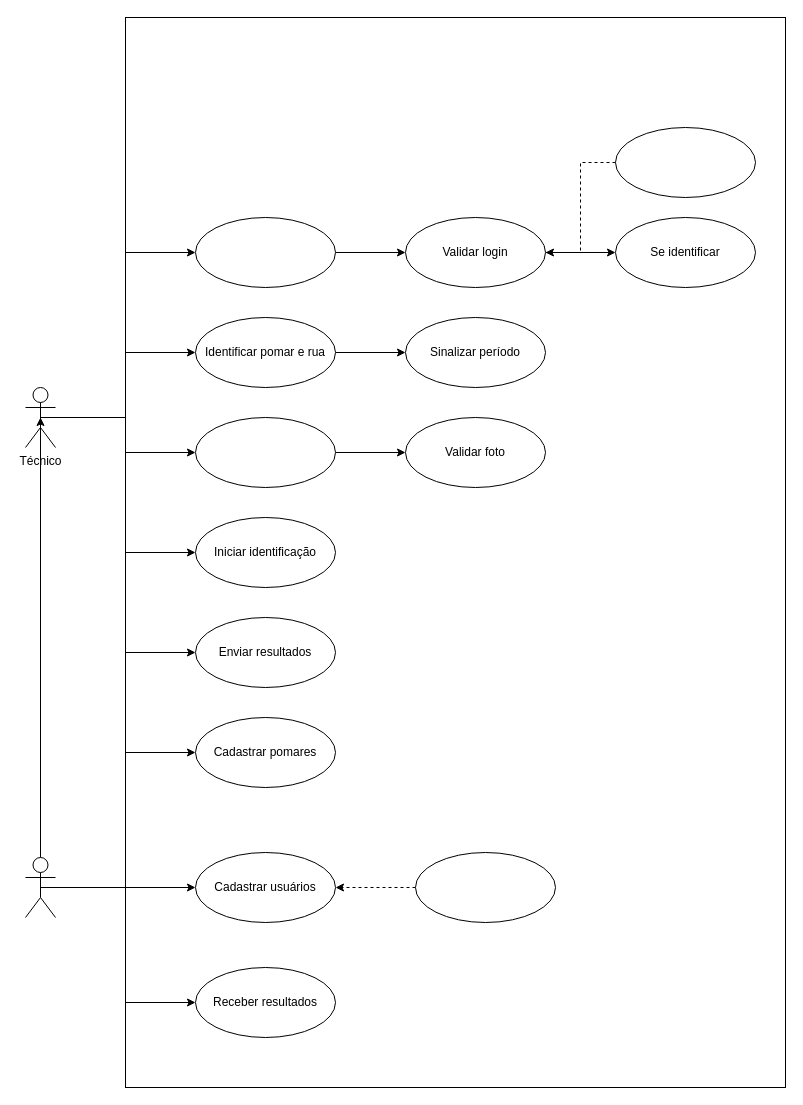
Image size: 803x1105. Some labels were removed from this diagram. Each missing label, with the centre of its shape:
"Erro de cadastro" belongs at [485,887].
"Erro de login" belongs at [685,162].
"Produtor" belongs at [40,887].
"Realizar login" belongs at [265,252].
"Tirar foto do fruto" belongs at [265,452].
